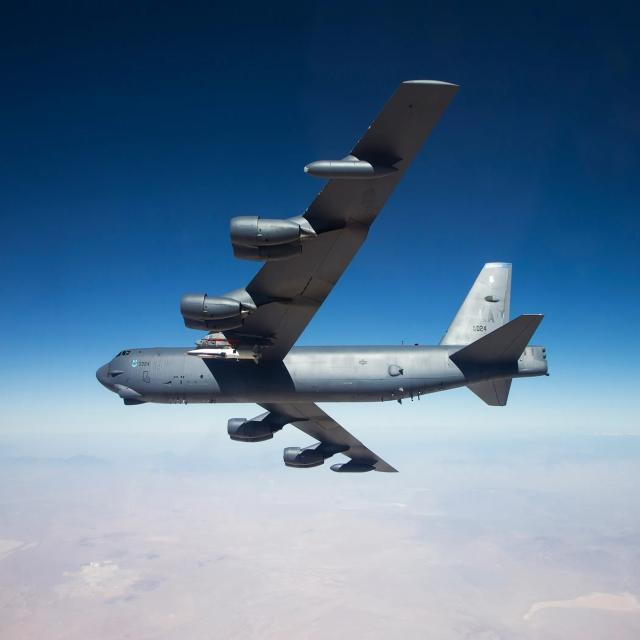B52: (90, 69, 576, 492)
